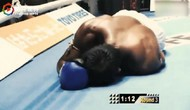down: (52, 6, 170, 90)
